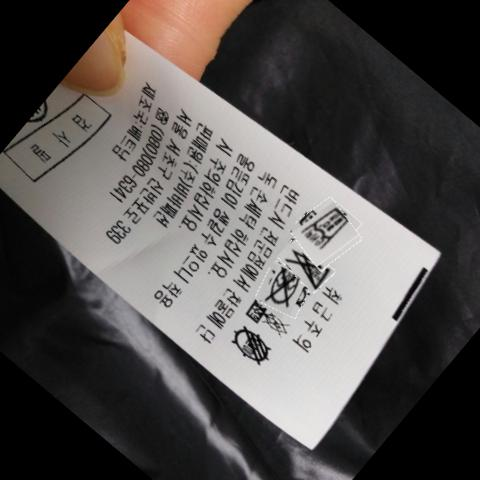DN_bleach: (298, 252, 335, 284)
DN_dry_clean: (265, 269, 299, 305)
hand_wash: (303, 208, 349, 248)
line_dry_in_shade: (235, 331, 271, 365)
